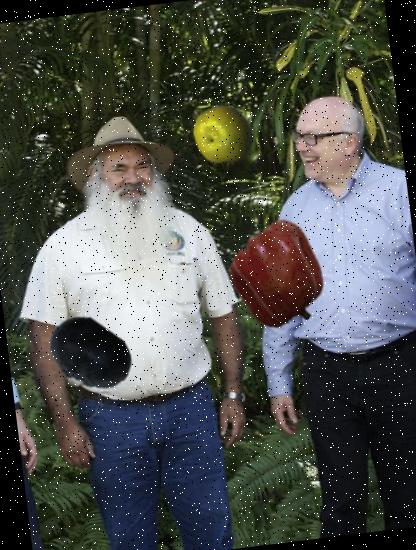Blueberry: (41, 306, 138, 403)
Pepper: (224, 219, 336, 332)
Pomelo: (190, 100, 258, 168)
